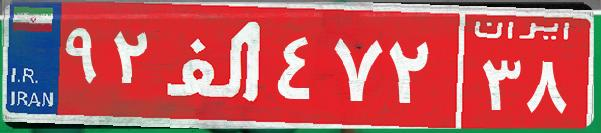2: (385, 28, 445, 110), (110, 28, 158, 105)
3: (475, 38, 525, 113)
4: (273, 28, 330, 110)
7: (330, 28, 385, 110)
8: (525, 38, 570, 115)
9: (57, 26, 110, 107)
الف: (158, 15, 273, 115)
